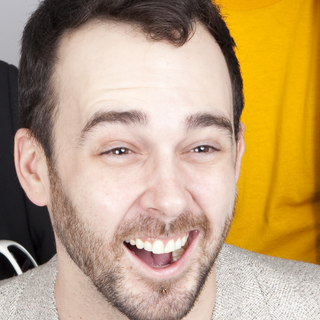eye: (93, 140, 141, 164), (183, 138, 228, 161)
